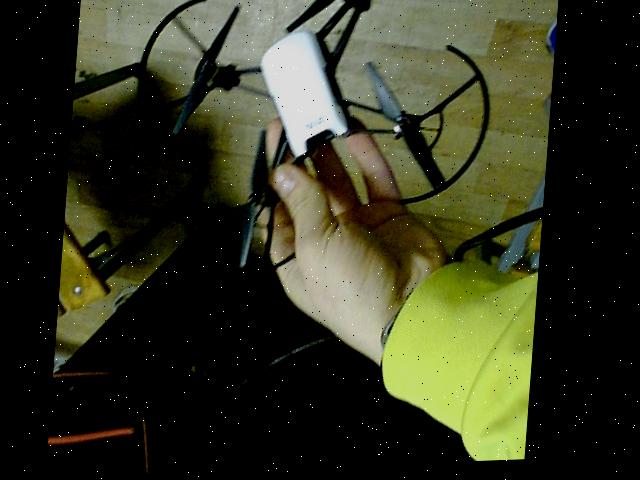drone: (120, 0, 503, 286)
